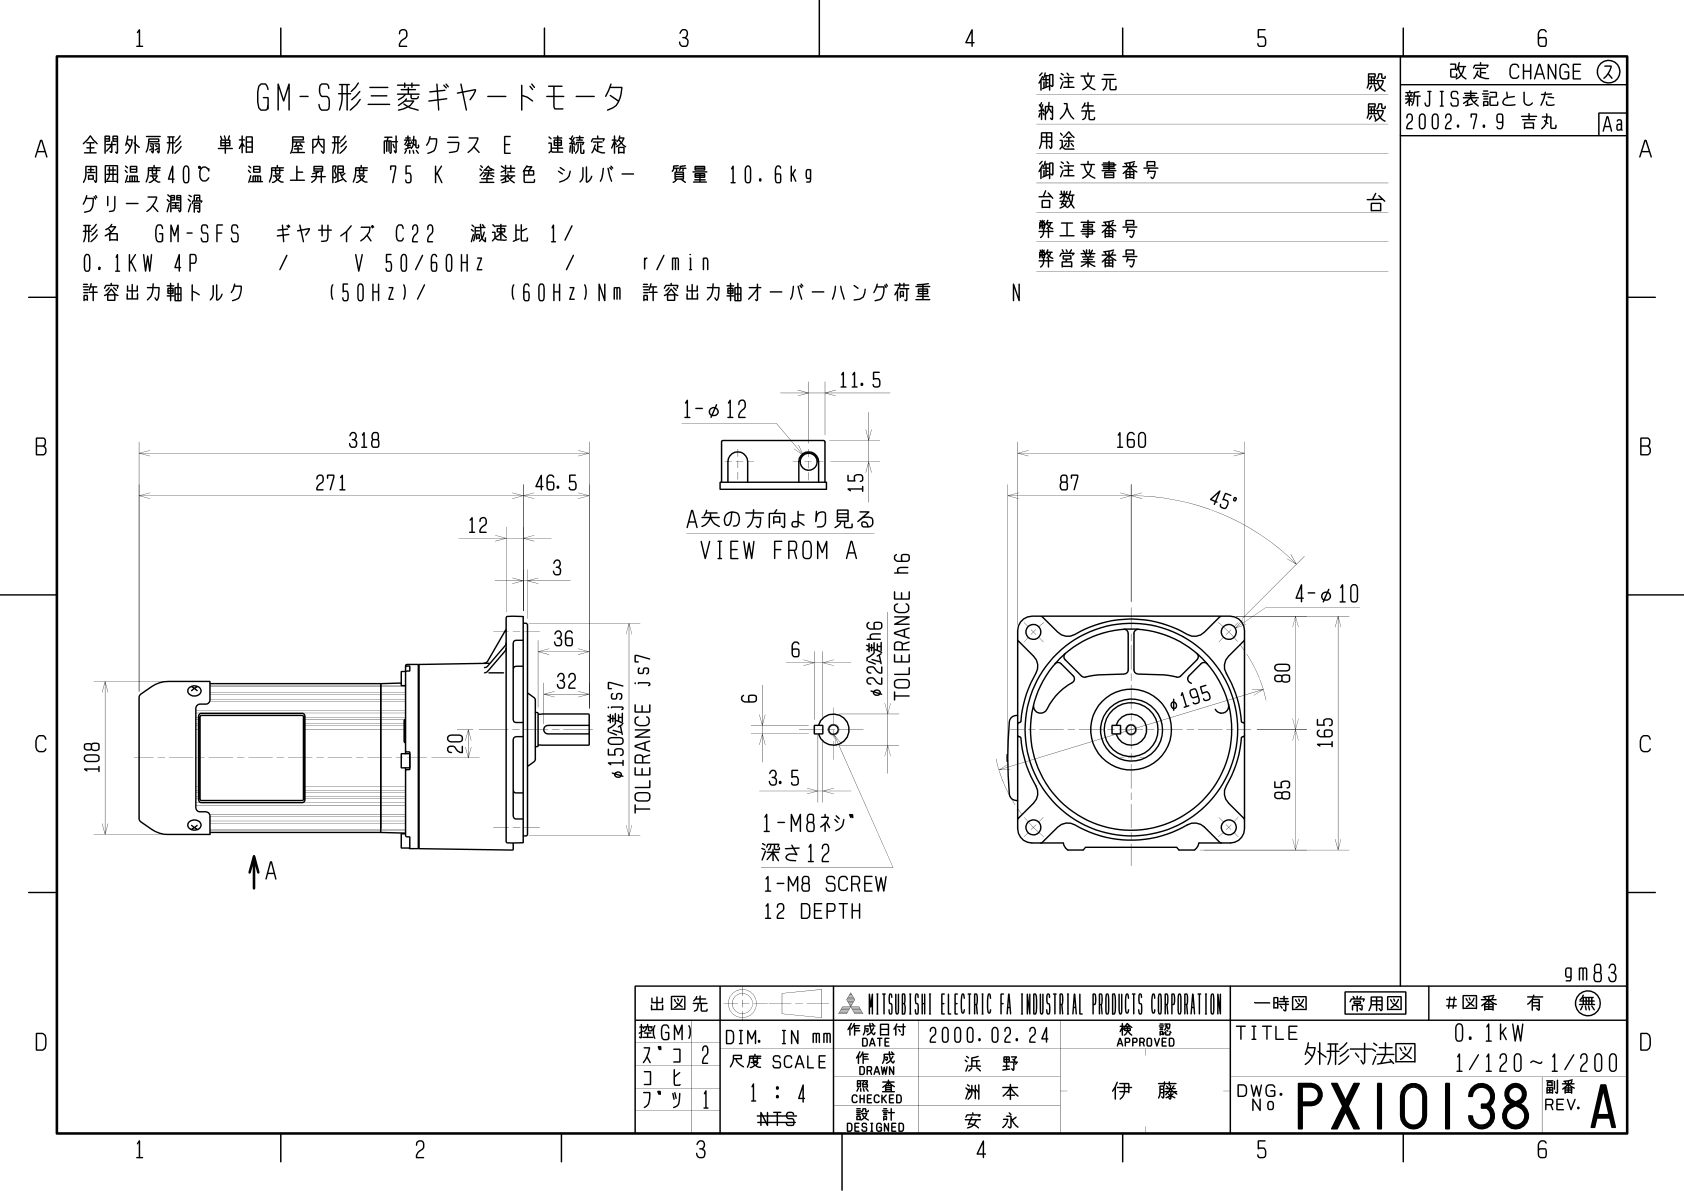GM_S_屋内＿単相_フランジ: (4, 15, 1684, 1191)
